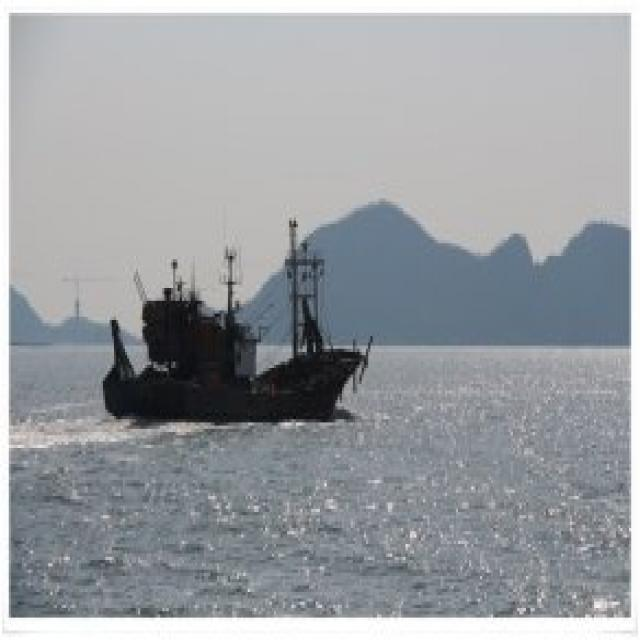Ship: (95, 206, 380, 433)
